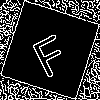F: (25, 25, 73, 79)
